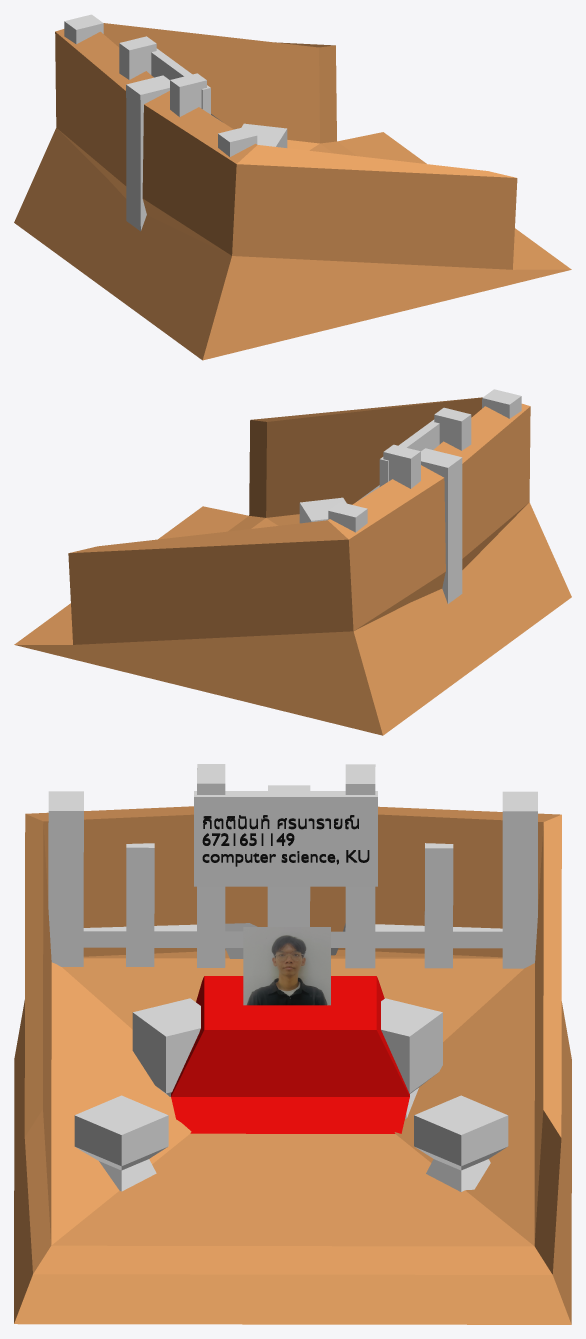
3 renders of one model, top to bottom at view 1: azimuth 30°, elevation 25°; view 2: azimuth 150°, elevation 25°; view 3: azimuth 270°, elevation 25°, orthographic. The views are drawn at different scales.
Parts seen in each view (by area): view 1: Cube, Cube.003, Cube.004, Cube.006; view 2: Cube, Cube.003, Cube.004, Cube.005; view 3: Cube, Cube.003, Cube.001, Cube.004, 83668c15-eeba-4635-82a7-80f904c26617, Cube.006, Cube.005, Cube.008, Cube.007, Text.
Part boxes in pixels (bbox=[...]): Cube: bbox=[14, 23, 571, 360]; Cube.003: bbox=[64, 14, 257, 231]; Cube.004: bbox=[151, 48, 210, 114]; Cube.006: bbox=[241, 123, 287, 147]; Cube: bbox=[14, 397, 571, 735]; Cube.003: bbox=[328, 389, 521, 603]; Cube.004: bbox=[379, 419, 439, 486]; Cube.005: bbox=[299, 497, 346, 523]; Cube: bbox=[14, 806, 571, 1324]; Cube.003: bbox=[48, 764, 537, 968]; Cube.001: bbox=[171, 976, 409, 1133]; Cube.004: bbox=[194, 791, 377, 886]; 83668c15-eeba-4635-82a7-80f904c26617: bbox=[243, 927, 330, 1005]; Cube.006: bbox=[414, 1095, 508, 1191]; Cube.005: bbox=[74, 1095, 168, 1191]; Cube.008: bbox=[132, 998, 200, 1096]; Cube.007: bbox=[381, 998, 442, 1118]; Text: bbox=[202, 815, 369, 866].
Size of what is drawn, in the model's own units: 51.71 by 29.32 by 45.79.
10 materials, 1 textured.
